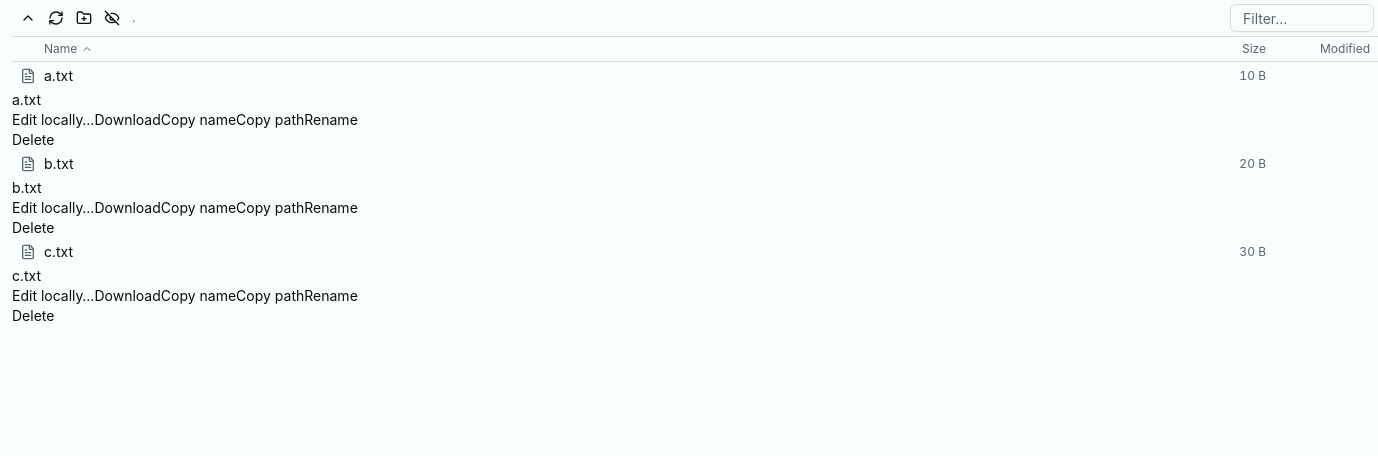
it: hiding dotfiles drops them from the selection
Check: the text "a.txt" is shown, box x1=44 y1=67 x2=73 y2=84
Click the button named "Show hidden files" at (112, 18), box x1=100 y1=6 x2=124 y2=30
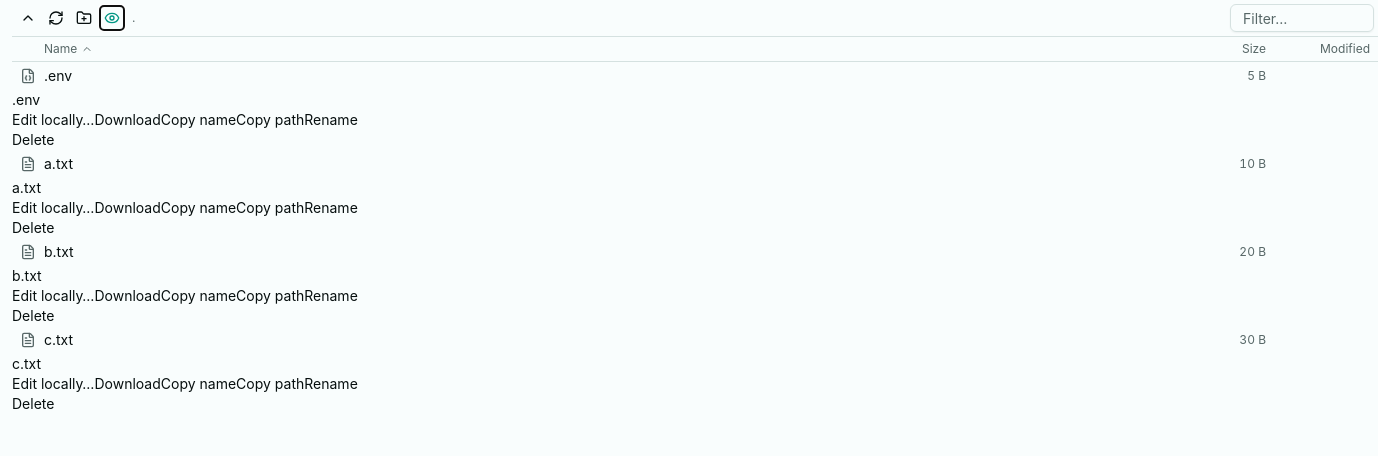
Type keys "{Control>}a{/Control}"
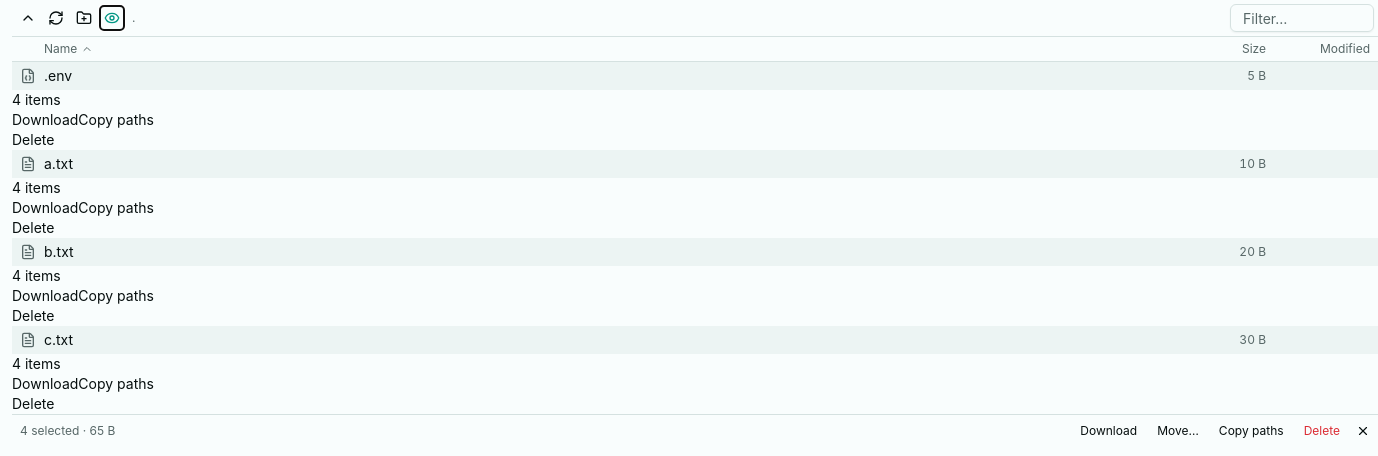
Check: the text "4 selected · 65 B" is shown, box x1=16 y1=423 x2=119 y2=439
Click the button named "Hide hidden files" at (112, 18), box x1=100 y1=6 x2=124 y2=30
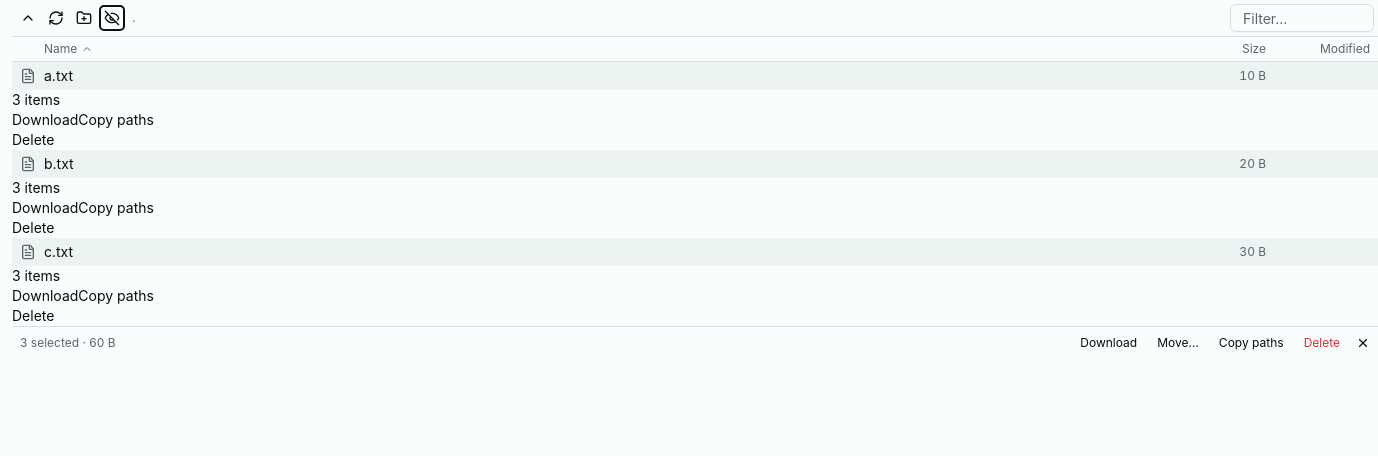
Check: the text "3 selected · 60 B" is shown, box x1=16 y1=335 x2=120 y2=351
